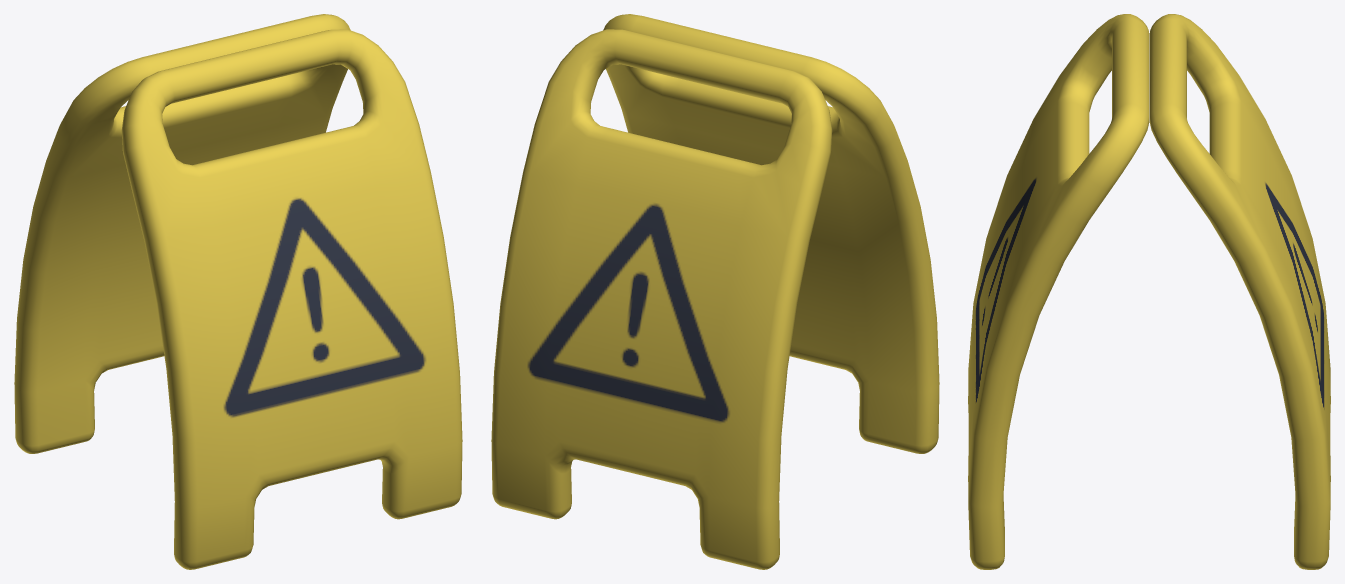
File: WetFloorSign.glb
The picture shows the model from 3 angles, left to right: view 1: azimuth 30°, elevation 25°; view 2: azimuth 150°, elevation 25°; view 3: azimuth 270°, elevation 25°; orthographic projection. The views are drawn at different scales.
Visible parts, largest first — view 1: Redone; view 2: Redone; view 3: Redone.
Boxes of the visible parts, x1,y1,x2,y2 form: Redone: [14, 14, 462, 569]; Redone: [491, 14, 939, 569]; Redone: [968, 14, 1330, 569].
Size of the model in its own units: 0.775 by 1.15 by 0.8503.
1 material, 1 textured.
